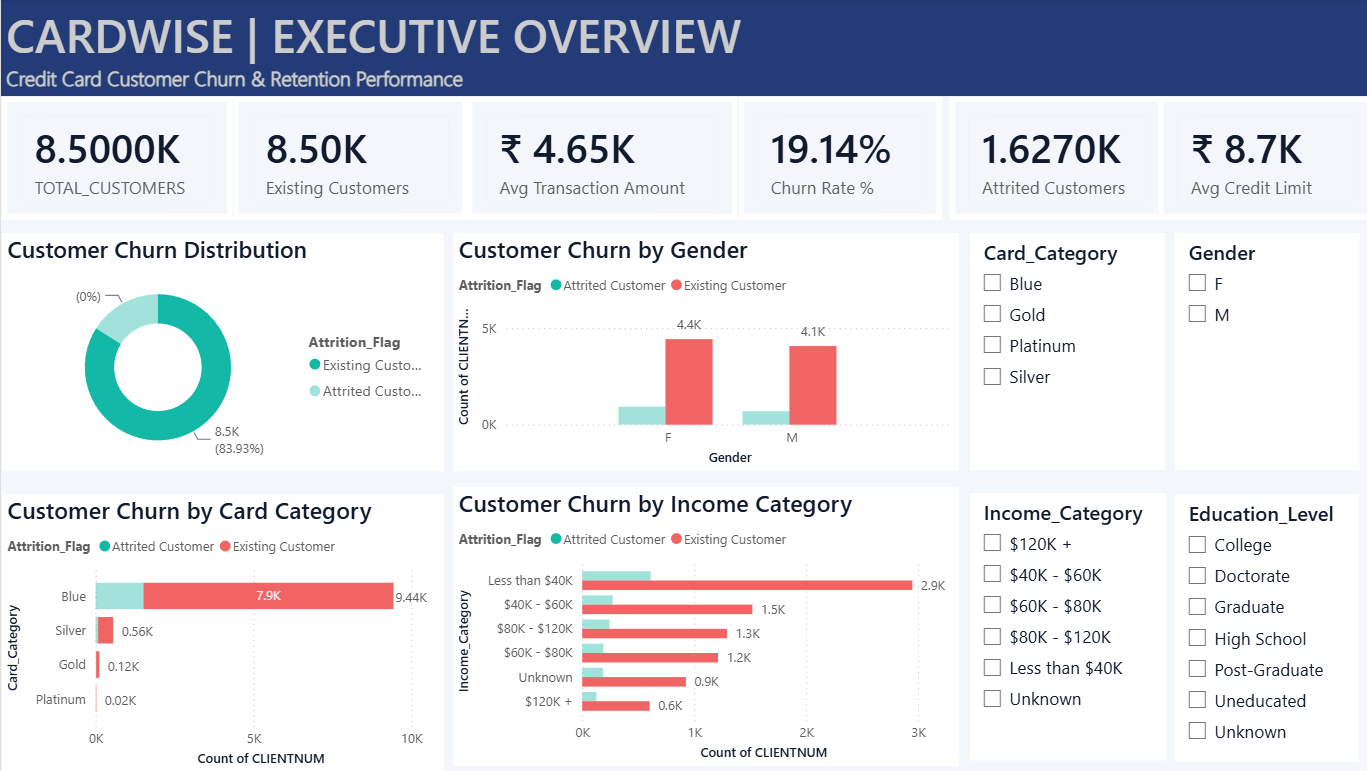

The page's visual inventory and layout, read from the dashboard file:
{"tool":"powerbi","page":{"name":"Executive Dashboard","canvas":[1280,720],"ordinal":0},"visuals":[{"type":"cardVisual","fields":{"Data":["credit_card_churn bankchurners.TOTAL_CUSTOMERS"]},"box":[1.4,91.4,214.3,114.3],"z":0},{"type":"cardVisual","fields":{"Data":["credit_card_churn bankchurners.Existing Customers"]},"box":[215.7,91.4,218.4,114.3],"z":1000},{"type":"cardVisual","fields":{"Data":["credit_card_churn bankchurners.Attrited Customers"]},"box":[882.9,91.4,202,114.3],"z":2000},{"type":"cardVisual","fields":{"Data":["credit_card_churn bankchurners.Avg Credit Limit"]},"box":[1077.1,91.4,202.9,114.3],"z":3000},{"type":"cardVisual","fields":{"Data":["credit_card_churn bankchurners.Avg Transaction Amount"]},"box":[434.3,91.4,251,114.3],"z":4000},{"type":"cardVisual","fields":{"Data":["credit_card_churn bankchurners.Churn Rate %"]},"box":[685.7,91.4,189.8,114.3],"z":5000},{"type":"donutChart","title":"Customer Churn Distribution","fields":{"Category":["credit_card_churn bankchurners.Attrition_Flag"],"Y":["CountNonNull(credit_card_churn bankchurners.CLIENTNUM)"]},"box":[1.2,218.5,410,221.4],"z":6000},{"type":"clusteredColumnChart","title":"Customer Churn by Gender","fields":{"Category":["credit_card_churn bankchurners.Gender"],"Y":["CountNonNull(credit_card_churn bankchurners.CLIENTNUM)"],"Series":["credit_card_churn bankchurners.Attrition_Flag"]},"box":[421,218.5,470,221.4],"z":7000},{"type":"barChart","title":"Customer Churn by Card Category","fields":{"Category":["credit_card_churn bankchurners.Card_Category"],"Y":["CountNonNull(credit_card_churn bankchurners.CLIENTNUM)"],"Series":["credit_card_churn bankchurners.Attrition_Flag"]},"box":[1.4,461.4,410,258.6],"z":8000},{"type":"clusteredBarChart","title":"Customer Churn by Income Category","fields":{"Category":["credit_card_churn bankchurners.Income_Category"],"Y":["CountNonNull(credit_card_churn bankchurners.CLIENTNUM)"],"Series":["credit_card_churn bankchurners.Attrition_Flag"]},"box":[421,454.3,470,260],"z":9000},{"type":"slicer","fields":{"Values":["credit_card_churn bankchurners.Card_Category"]},"box":[901.2,218.5,182.7,221],"z":10000},{"type":"slicer","fields":{"Values":["credit_card_churn bankchurners.Gender"]},"box":[1091.4,218.5,171.6,221],"z":11000},{"type":"slicer","fields":{"Values":["credit_card_churn bankchurners.Income_Category"]},"box":[901.2,460.5,182.9,248.6],"z":12000},{"type":"slicer","fields":{"Values":["credit_card_churn bankchurners.Education_Level"]},"box":[1091.4,461.4,171.4,248.6],"z":13000},{"type":"textbox","box":[0,0,1278.6,91.4],"z":14000}]}

Visuals, with their boxes in screenshot pixels (x1, y1, x2, y2), scaled from the page's 1280x720 canvas onto the 1367x771 screenshot:
cardVisual - credit_card_churn bankchurners.TOTAL_CUSTOMERS: 1/98/230/220
cardVisual - credit_card_churn bankchurners.Existing Customers: 230/98/464/220
cardVisual - credit_card_churn bankchurners.Attrited Customers: 943/98/1159/220
cardVisual - credit_card_churn bankchurners.Avg Credit Limit: 1150/98/1366/220
cardVisual - credit_card_churn bankchurners.Avg Transaction Amount: 464/98/732/220
cardVisual - credit_card_churn bankchurners.Churn Rate %: 732/98/935/220
"Customer Churn Distribution" donutChart: 1/234/439/471
"Customer Churn by Gender" clusteredColumnChart: 450/234/952/471
"Customer Churn by Card Category" barChart: 1/494/439/770
"Customer Churn by Income Category" clusteredBarChart: 450/486/952/765
slicer - credit_card_churn bankchurners.Card_Category: 962/234/1158/471
slicer - credit_card_churn bankchurners.Gender: 1166/234/1349/471
slicer - credit_card_churn bankchurners.Income_Category: 962/493/1158/759
slicer - credit_card_churn bankchurners.Education_Level: 1166/494/1349/760
textbox: 0/0/1366/98
